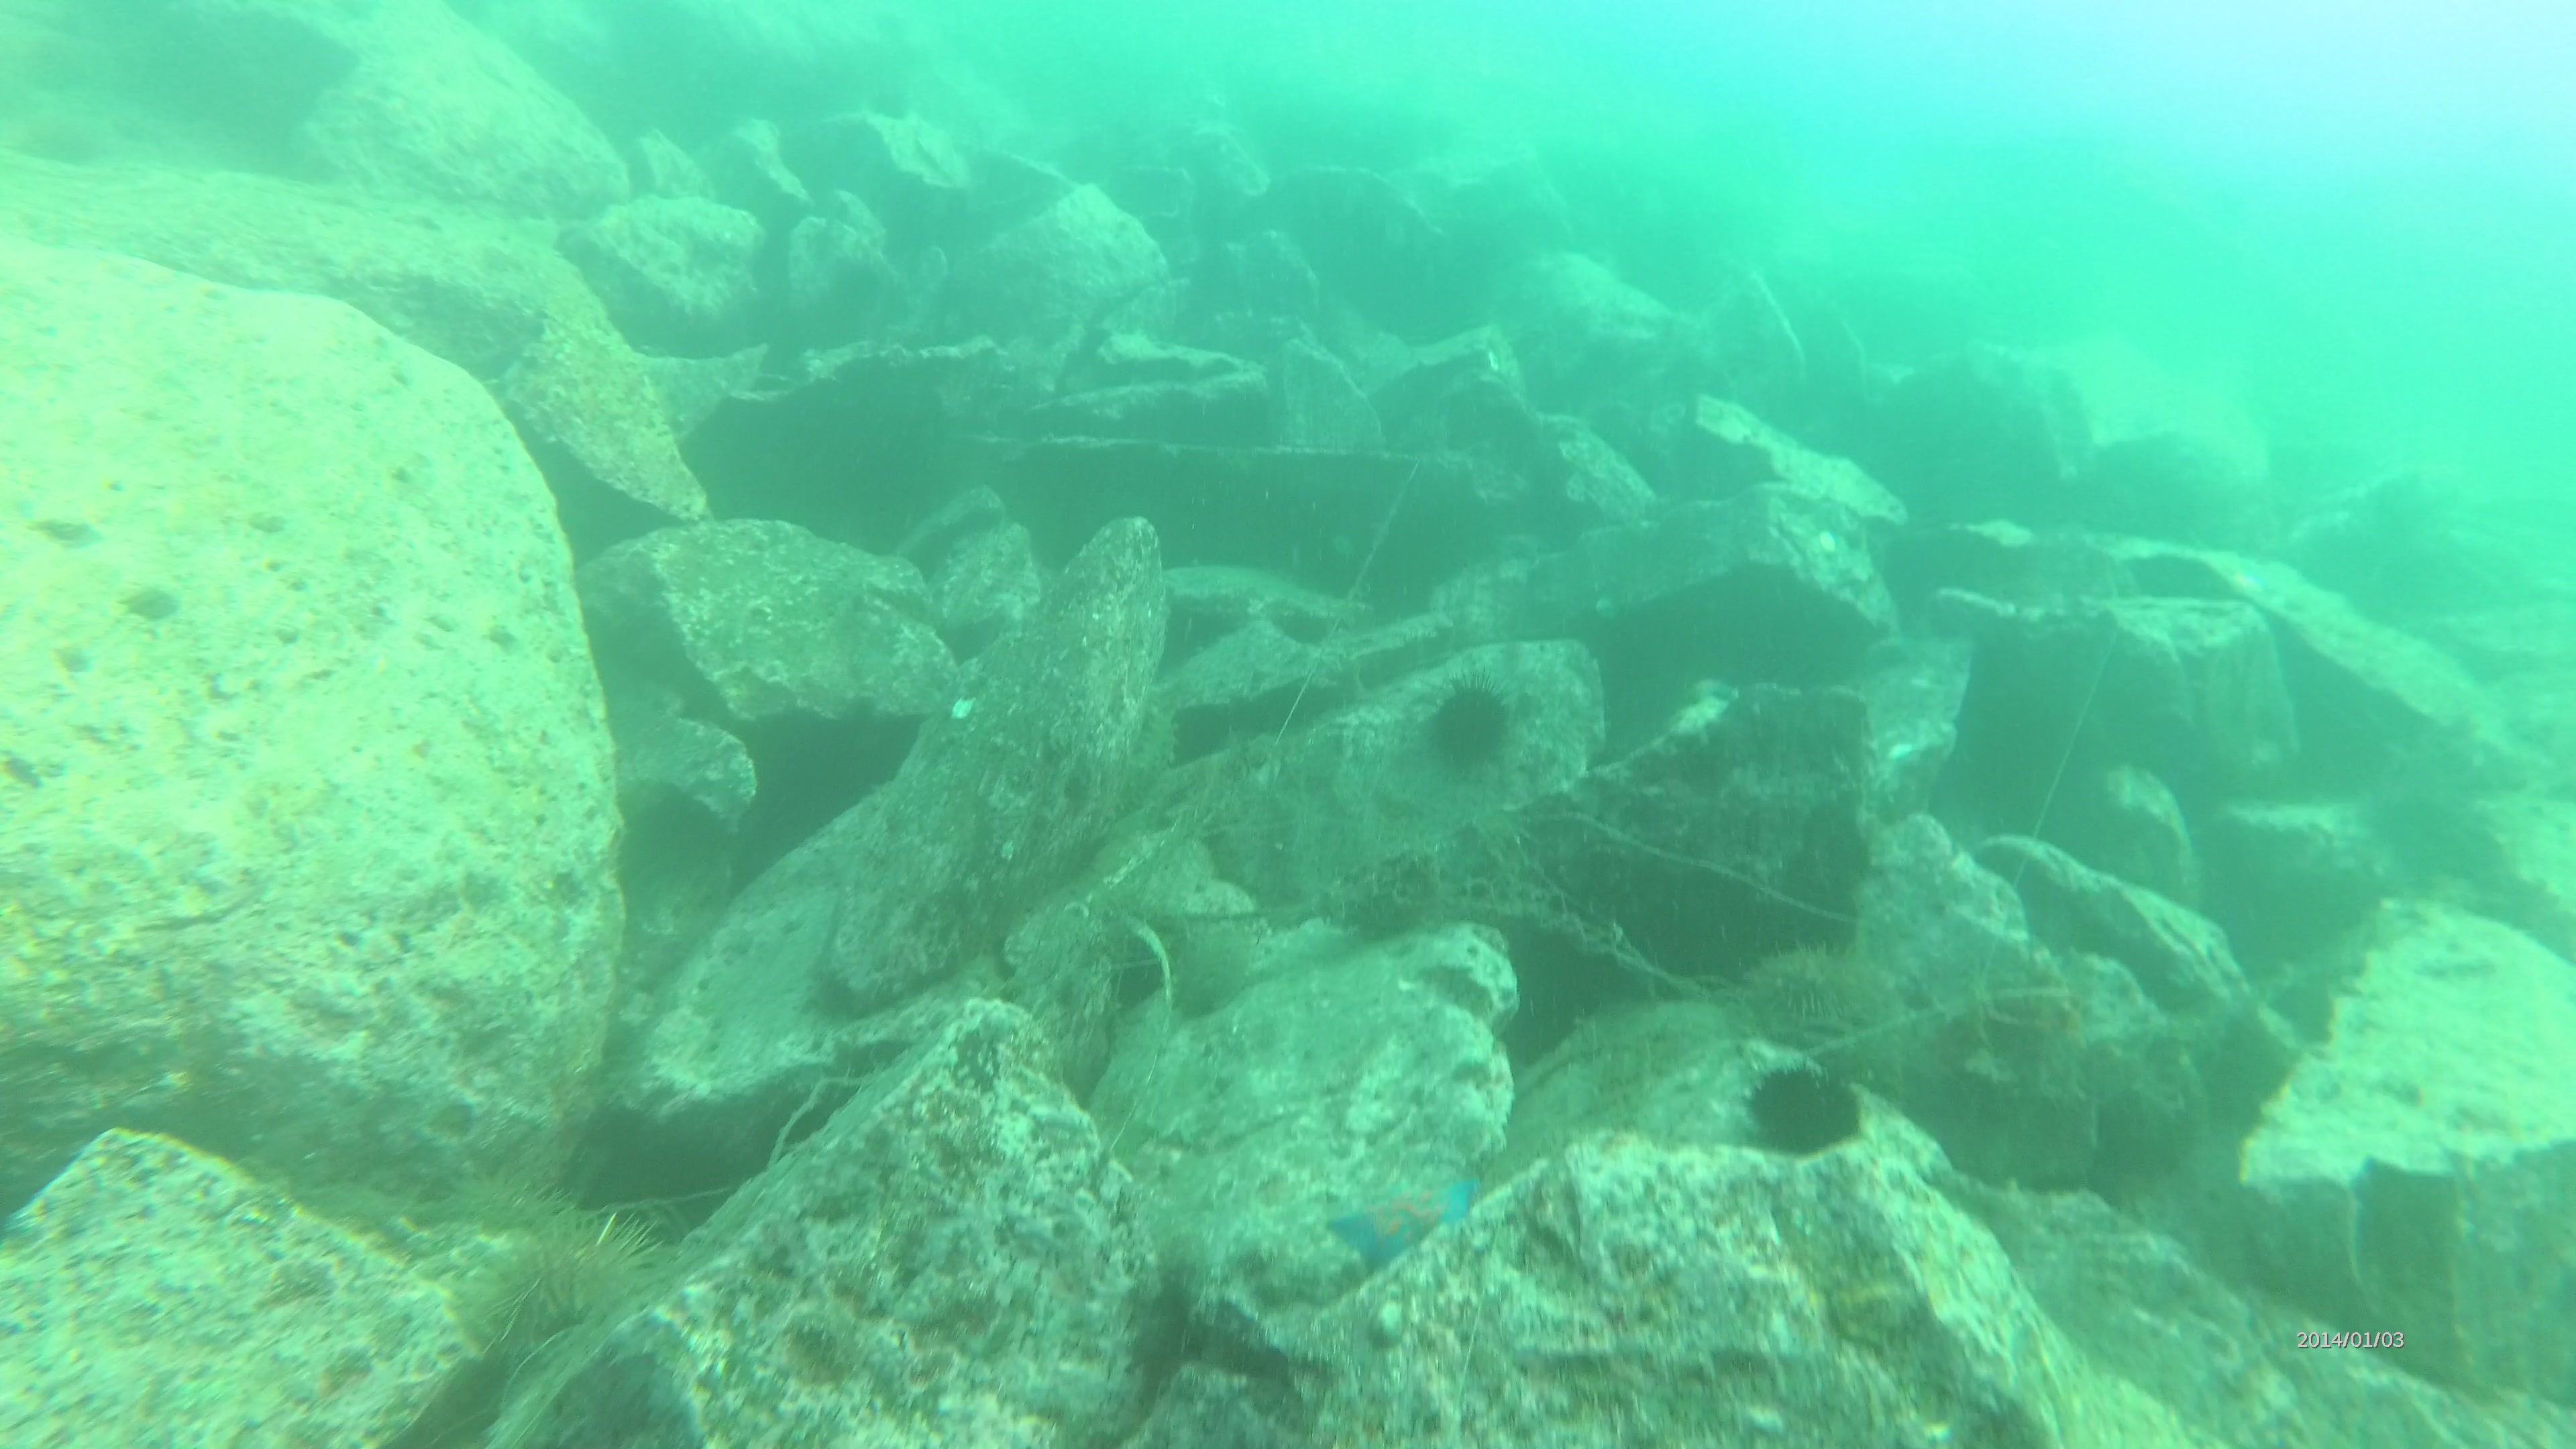echinus: (1736, 1046, 1868, 1166), (1415, 674, 1520, 777)
starfish: (1325, 1164, 1477, 1274)
